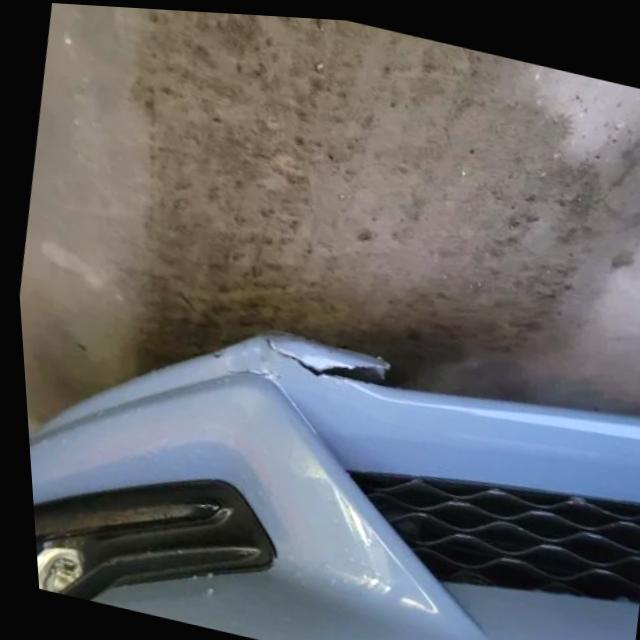Crack: (265, 333, 395, 388)
Paint-Crack: (228, 366, 282, 380)
